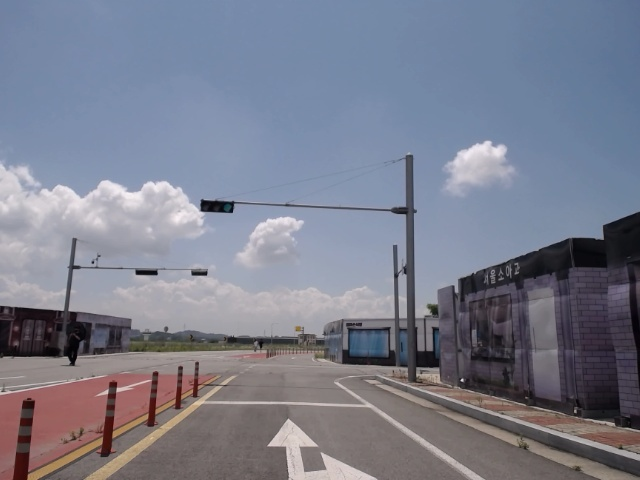green_3: (201, 200, 233, 213)
